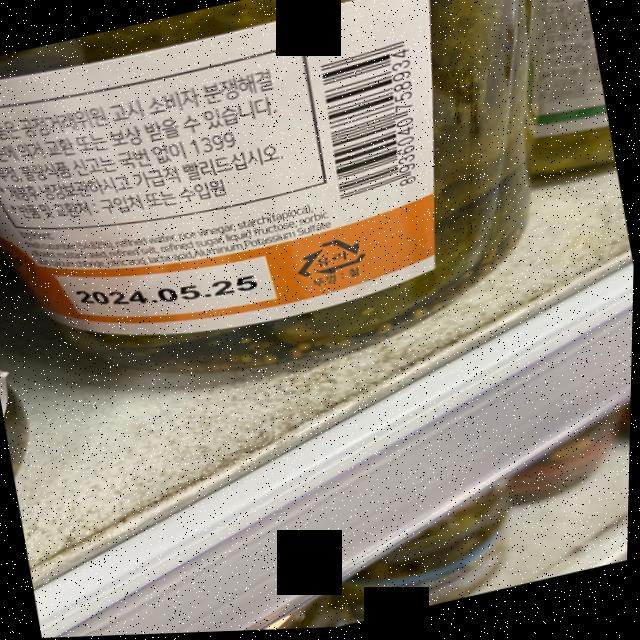Glass: (292, 235, 372, 285)
